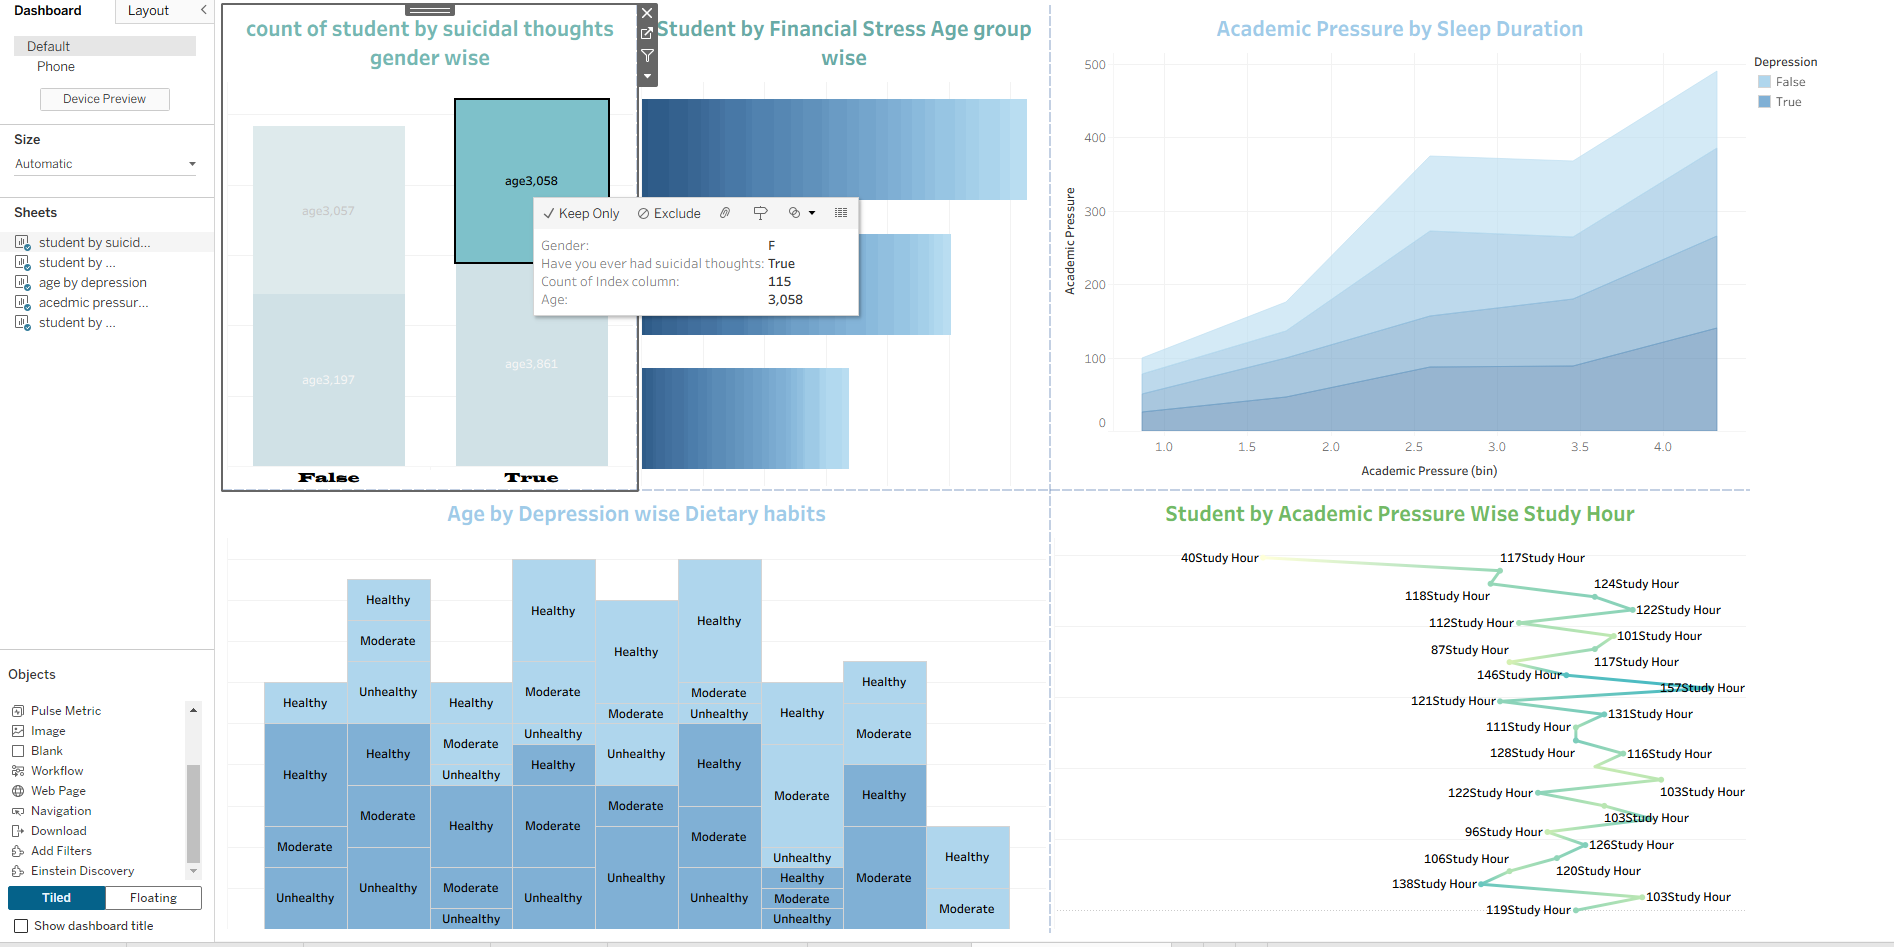

The page's visual inventory and layout, read from the dashboard file:
{"tool":"tableau","page":{"name":"Student_Depression_Analysis","canvas":[1000,1000],"units":"permille","ordinal":0},"visuals":[{"type":"worksheet","title":"student by suicidal thoughts","mark":"Bar","rows":["Index_column"],"cols":["Have_you_ever_had_suicidal_thoughts"],"box":[4.7,8.5,243.3,513.8]},{"type":"worksheet","title":"student by financial stress","mark":"Automatic","rows":["Age_Group"],"cols":["Financial_Stress"],"box":[248,8.5,243.3,513.8]},{"type":"worksheet","title":"acedmic pressure by sleep duration","mark":"Area","rows":["Academic_Pressure"],"cols":["Academic Pressure (bin)"],"box":[491.3,8.5,411.6,513.8]},{"type":"legend","title":"student by suicidal thoughts","param":"[federated.00mcdja1831qk419nc62b09ihwin].[cnt:Gender:qk]","box":[902.9,8.5,92.4,23.3]},{"type":"legend","title":"student by Academic pressure","param":"[federated.00mcdja1831qk419nc62b09ihwin].[none:Gender:nk]","box":[902.9,31.8,92.4,23.3]},{"type":"legend","title":"age by depression","param":"[federated.00mcdja1831qk419nc62b09ihwin].[none:Depression:nk]","box":[902.9,55.1,92.4,69.9]},{"type":"worksheet","title":"age by depression","mark":"Automatic","rows":["Age"],"cols":["Age (bin)"],"box":[4.7,522.2,486.6,469.3]},{"type":"worksheet","title":"student by Academic pressure","mark":"Line","rows":["Index column (bin)"],"cols":["Academic_Pressure"],"box":[491.3,522.2,411.6,469.3]}]}

Visuals, with their boxes on the dashboard's canvas, which has no fixed pixel size, in thousandths of its width and height (x1, y1, x2, y2). These are canvas units, not pixel positions in the 1894x947 screenshot, which may show the page scaled, cropped or inside an application window:
"student by suicidal thoughts" worksheet (Bar marks): pyautogui.locateOnScreen(5, 8, 248, 522)
"student by financial stress" worksheet: pyautogui.locateOnScreen(248, 8, 491, 522)
"acedmic pressure by sleep duration" worksheet (Area marks): pyautogui.locateOnScreen(491, 8, 903, 522)
"student by suicidal thoughts" legend: pyautogui.locateOnScreen(903, 8, 995, 32)
"student by Academic pressure" legend: pyautogui.locateOnScreen(903, 32, 995, 55)
"age by depression" legend: pyautogui.locateOnScreen(903, 55, 995, 125)
"age by depression" worksheet: pyautogui.locateOnScreen(5, 522, 491, 992)
"student by Academic pressure" worksheet (Line marks): pyautogui.locateOnScreen(491, 522, 903, 992)
